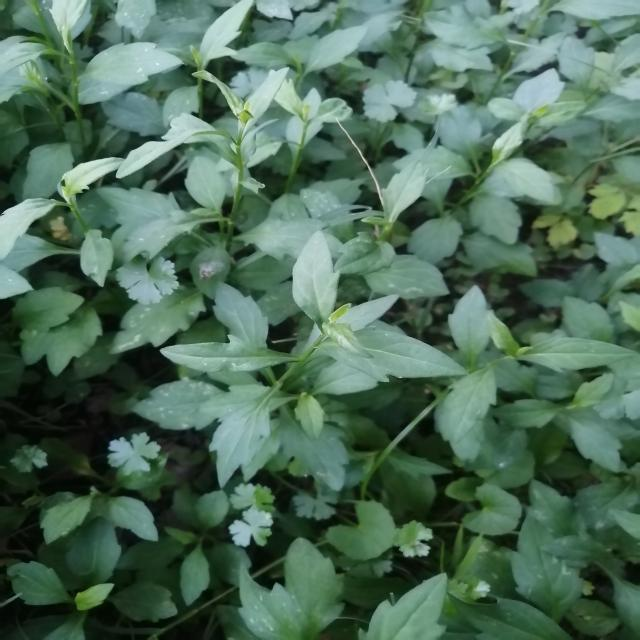Indian aster: (157, 248, 468, 479), (126, 65, 394, 248)
